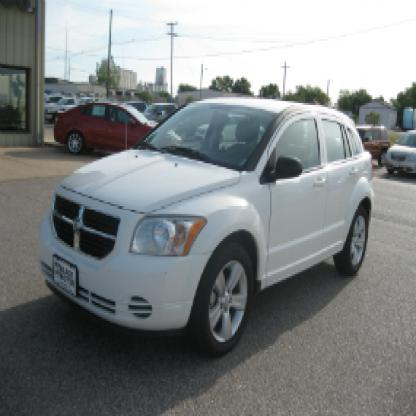Vehicle: (35, 87, 380, 368)
